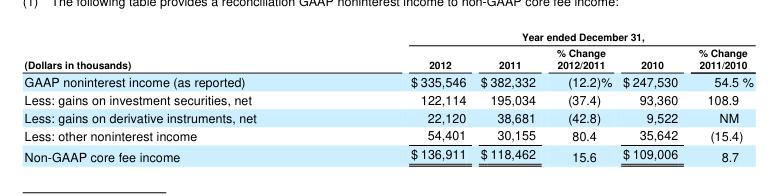table: (23, 29, 752, 164)
table column: (23, 29, 332, 164), (332, 29, 472, 164), (472, 29, 545, 164), (545, 29, 616, 164), (616, 29, 687, 164), (687, 29, 752, 164)
table column header: (23, 29, 752, 71)
table row: (23, 44, 752, 71), (23, 144, 752, 164), (23, 125, 752, 144), (23, 71, 752, 89), (23, 89, 752, 107), (23, 107, 752, 125), (23, 29, 752, 44)
table spanning cell: (23, 29, 332, 71), (332, 29, 752, 44)
